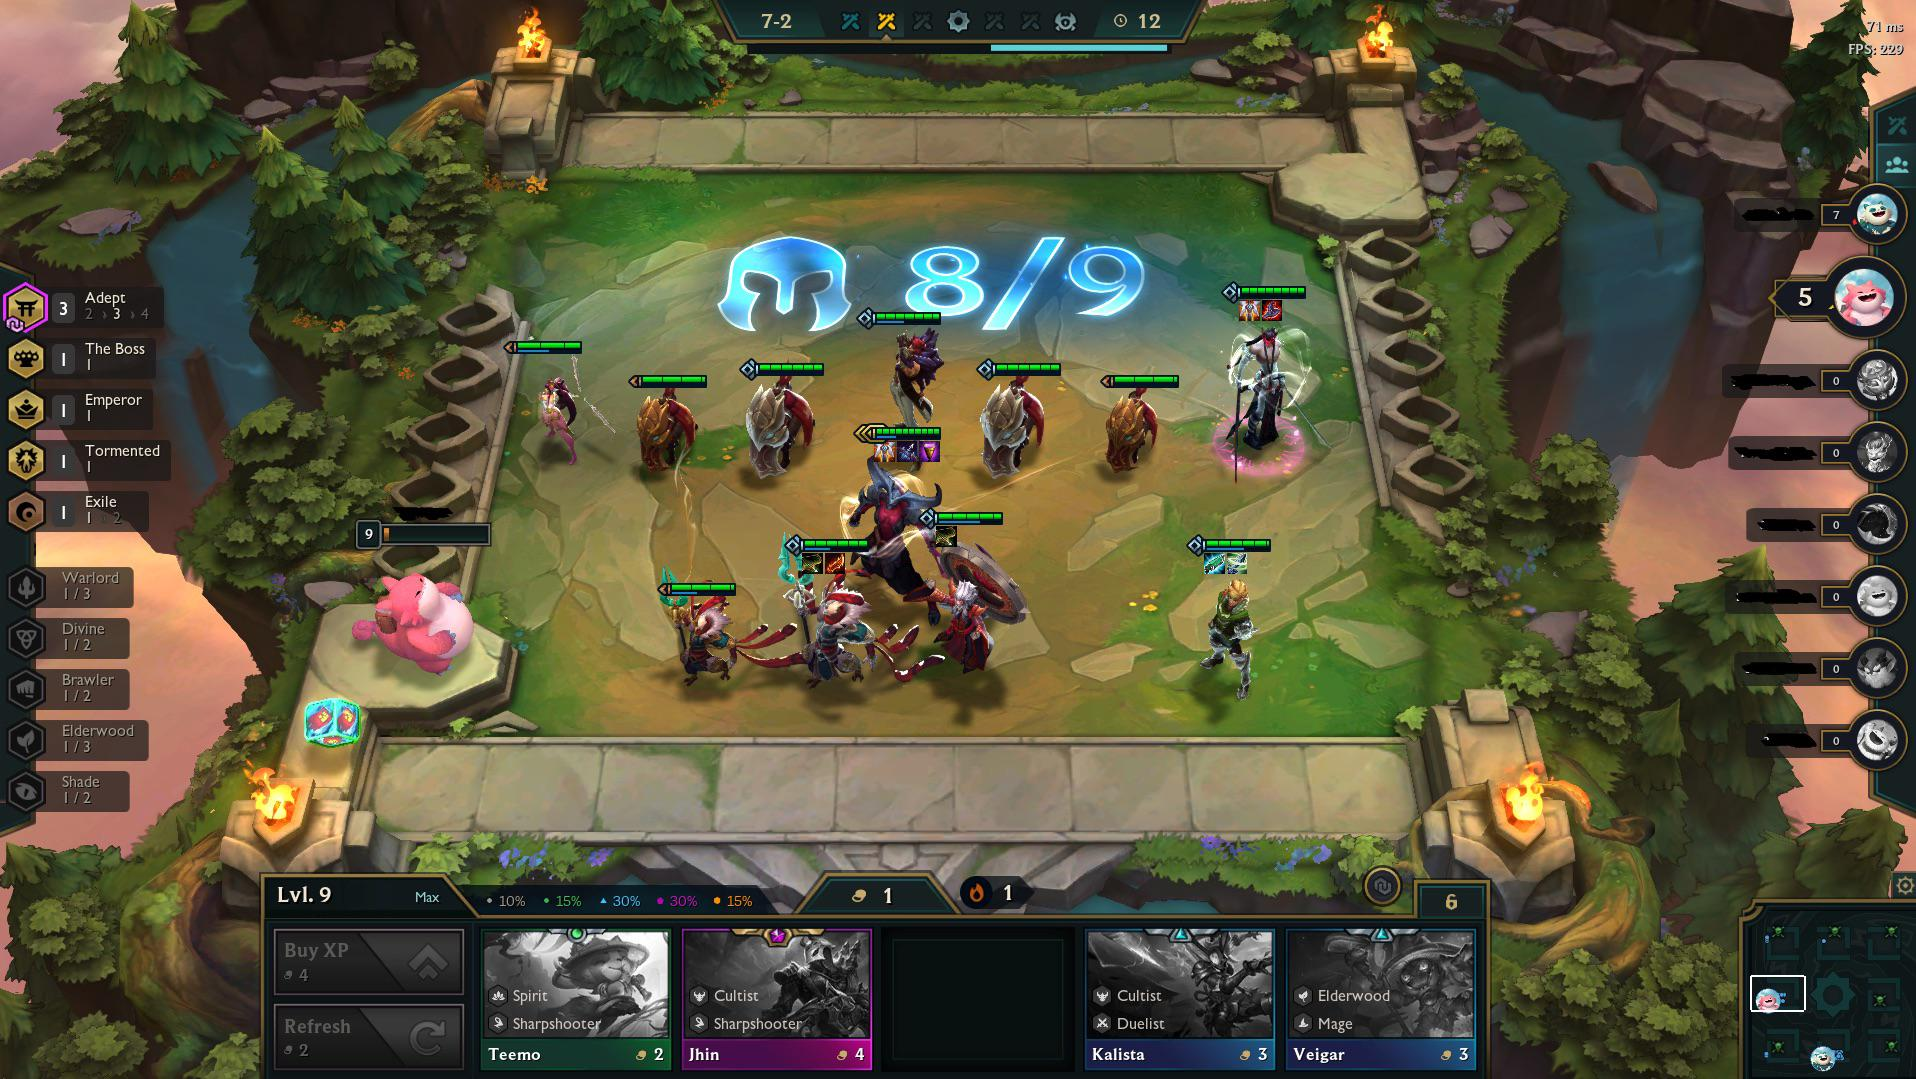1star_azir: (643, 557, 815, 707)
1star_azirsoldier: (616, 366, 721, 489), (1084, 363, 1190, 486)
1star_irelia: (497, 332, 616, 475)
2star_azir: (772, 521, 954, 707)
2star_azirsoldier: (732, 357, 840, 489), (965, 353, 1072, 484)
2star_ezreal: (1176, 528, 1284, 711)
2star_yone: (1200, 270, 1329, 489)
2star_yone_chosen: (1197, 268, 1326, 488)
2star_zilean: (903, 501, 1042, 705)
3star_kaynred: (821, 411, 969, 636)
item_bow: (933, 522, 959, 551), (801, 547, 824, 575)
item_chalice: (917, 437, 941, 464)
item_ga: (872, 437, 897, 464), (1238, 296, 1262, 324)
item_guinsoo: (822, 549, 846, 576)
item_gunblade: (1201, 547, 1226, 576)
item_lastwhisper: (896, 436, 920, 464)
item_rabadon: (1259, 293, 1284, 322)
item_zephyr: (1226, 547, 1251, 576)
trait_adept3: (1, 279, 182, 336)
trait_adept_chosen: (1, 276, 51, 334)
trait_brawler1: (1, 661, 182, 715)
trait_divine1: (1, 611, 182, 665)
trait_elderwood1: (1, 713, 182, 767)
trait_emperor1: (1, 386, 182, 433)
trait_exile1: (1, 484, 182, 538)
trait_shade1: (1, 765, 182, 818)
trait_theboss1: (1, 333, 182, 382)
trait_tormented1: (1, 436, 182, 484)
trait_warlord1: (1, 558, 182, 612)
